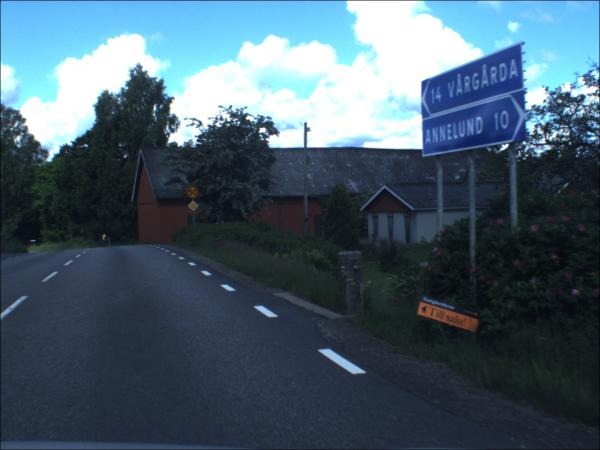50_SIGN: (188, 188, 202, 201)
PRIORITY_ROAD: (188, 202, 201, 214)
